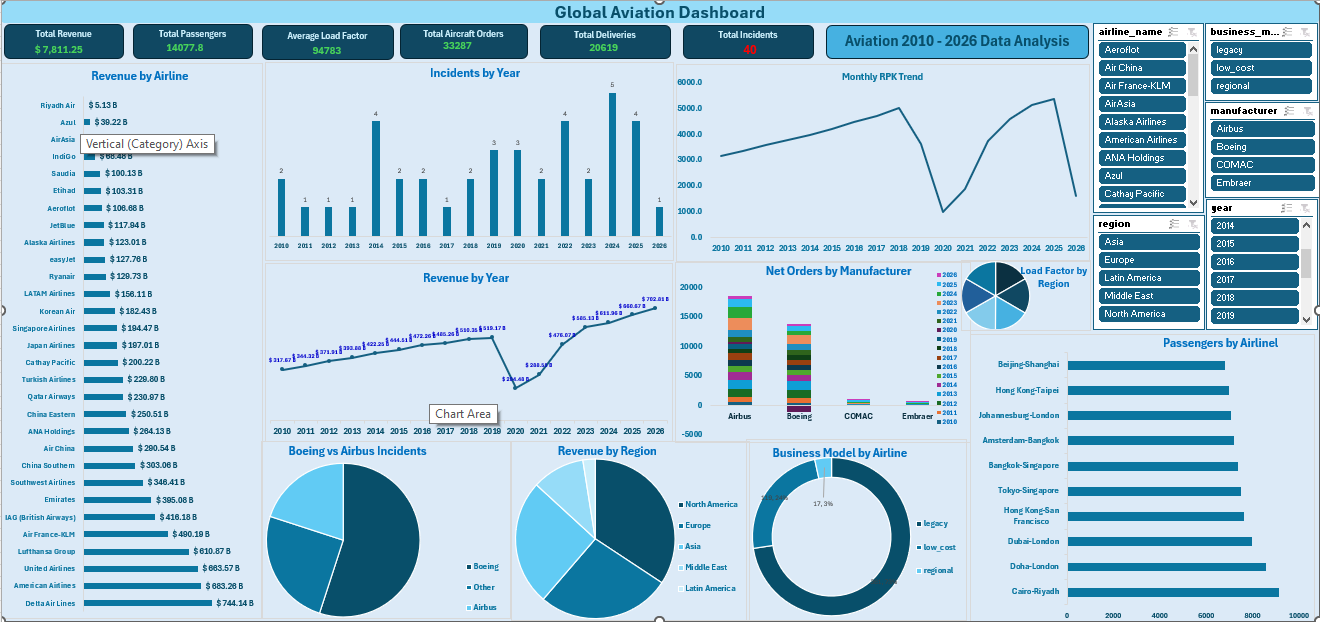

Layout of this report page (visuals, bound fields, positions):
{"tool":"powerbi","page":{"name":"Aviation Overview ","canvas":[1280,720],"ordinal":0},"visuals":[{"type":"textbox","box":[0,0,589.7,43.5],"z":0,"group":"g2"},{"type":"group","id":"g1","title":"Group 1","box":[0,54,1280,96],"z":1000,"group":"g2"},{"type":"cardVisual","fields":{"Data":["Measure Table.Revenue (Trillion USD)"]},"box":[0,54,217.6,96],"z":1000,"group":"g1"},{"type":"pageNavigator","box":[589.7,0,690.3,43.5],"z":2000,"group":"g2"},{"type":"cardVisual","fields":{"Data":["Measure Table.Total Passengers (Billions)"]},"box":[230.5,54,207.1,96],"z":2000,"group":"g1"},{"type":"cardVisual","fields":{"Data":["Measure Table.Average Load Factor %"]},"box":[1062.4,54,217.6,96],"z":3000,"group":"g1"},{"type":"lineChart","fields":{"Y":["Measure Table.Total Revenue"],"Category":["Dim Date.Year Month"]},"box":[0,442.7,646.8,277.6],"z":3000,"group":"g2"},{"type":"cardVisual","fields":{"Data":["Measure Table.Total Orders"]},"box":[646.5,54,183.1,96],"z":4000,"group":"g1"},{"type":"areaChart","fields":{"Category":["Dim Date.Year Month"],"Y":["Measure Table.Total Passengers"]},"box":[646.8,442.7,633.2,277.6],"z":4000,"group":"g2"},{"type":"cardVisual","fields":{"Data":["Measure Table.Total Deliveries"]},"box":[450.5,54,183.1,96],"z":5000,"group":"g1"},{"type":"clusteredBarChart","fields":{"Y":["Measure Table.Total Revenue"],"Category":["Airline Financials.region"]},"box":[829.8,208.6,450.2,231.1],"z":5000,"group":"g2"},{"type":"cardVisual","fields":{"Data":["Measure Table.Total Incidents"]},"box":[842.4,54,207.1,96],"z":6000,"group":"g1"},{"type":"lineStackedColumnComboChart","title":"Revenue by Airline","fields":{"Category":["Airline Financials.airline_name"],"Y":["Measure Table.Total Revenue"]},"box":[0,153.1,450.2,286.6],"z":6000,"group":"g2"},{"type":"slicer","fields":{"Values":["Airline Financials.region"]},"box":[1138.9,153.1,141.1,55.5],"z":7000,"group":"g2"},{"type":"pieChart","fields":{"Category":["Fleet Orders.manufacturer"],"Y":["Sum(Fleet Orders.orders_net)"]},"box":[438.2,153.1,391.7,286.6],"z":8000,"group":"g2"},{"type":"slicer","fields":{"Values":["Airline Financials.business_model"]},"box":[991.9,153.1,136.6,55.5],"z":9000,"group":"g2"},{"type":"slicer","fields":{"Values":["Fleet Orders.manufacturer"]},"box":[841.8,153.1,136.6,55.5],"z":10000,"group":"g2"},{"type":"group","id":"g2","title":"Group 2","box":[0,0,1280,720.2],"z":10001}]}

Visuals, with their boxes on the page's 1280x720 design canvas (x1, y1, x2, y2). These are canvas units, not pixel positions in the 1320x622 screenshot, which may show the page scaled, cropped or inside an application window:
textbox: 0, 0, 590, 44
"Group 1" group: 0, 54, 1280, 150
cardVisual - Measure Table.Revenue (Trillion USD): 0, 54, 218, 150
pageNavigator: 590, 0, 1280, 44
cardVisual - Measure Table.Total Passengers (Billions): 230, 54, 438, 150
cardVisual - Measure Table.Average Load Factor %: 1062, 54, 1280, 150
lineChart - Measure Table.Total Revenue x Dim Date.Year Month: 0, 443, 647, 720
cardVisual - Measure Table.Total Orders: 646, 54, 830, 150
areaChart - Dim Date.Year Month x Measure Table.Total Passengers: 647, 443, 1280, 720
cardVisual - Measure Table.Total Deliveries: 450, 54, 634, 150
clusteredBarChart - Measure Table.Total Revenue x Airline Financials.region: 830, 209, 1280, 440
cardVisual - Measure Table.Total Incidents: 842, 54, 1050, 150
"Revenue by Airline" lineStackedColumnComboChart: 0, 153, 450, 440
slicer - Airline Financials.region: 1139, 153, 1280, 209
pieChart - Fleet Orders.manufacturer x Sum(Fleet Orders.orders_net): 438, 153, 830, 440
slicer - Airline Financials.business_model: 992, 153, 1128, 209
slicer - Fleet Orders.manufacturer: 842, 153, 978, 209
"Group 2" group: 0, 0, 1280, 720
